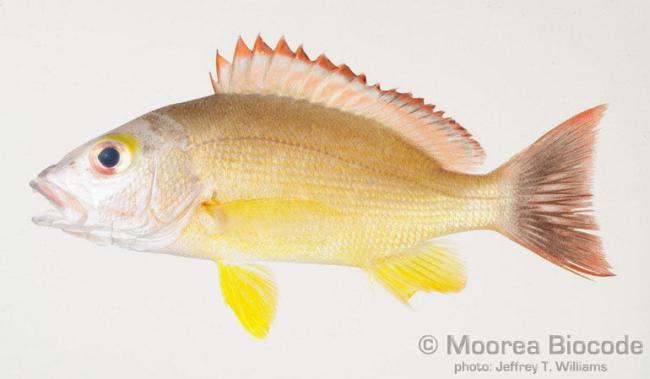fish: (28, 33, 619, 340)
